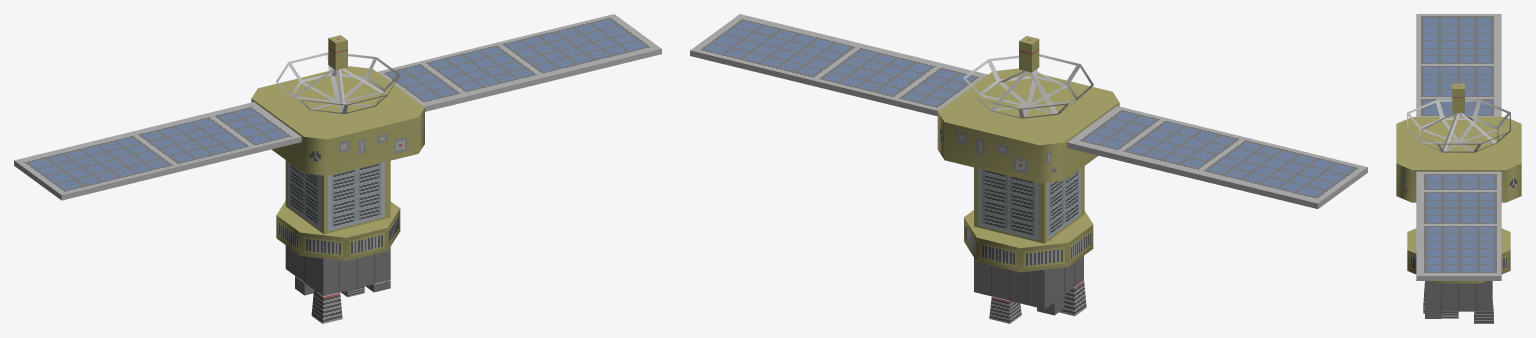
File: 0181_Satellite.glb
The picture shows the model from 3 angles, left to right: view 1: azimuth 30°, elevation 25°; view 2: azimuth 150°, elevation 25°; view 3: azimuth 270°, elevation 25°; orthographic projection. The views are drawn at different scales.
Parts seen in each view (by area): view 1: part_0; view 2: part_0; view 3: part_0.
Boxes of the visible parts, box(x1,y1,x2,y2) form: part_0: box(14, 14, 661, 323); part_0: box(690, 14, 1367, 323); part_0: box(1396, 14, 1521, 323).
Bounding box in the file's own units: 17.95 × 7.48 × 3.62.
Materials: 1 (1 with a texture image).
